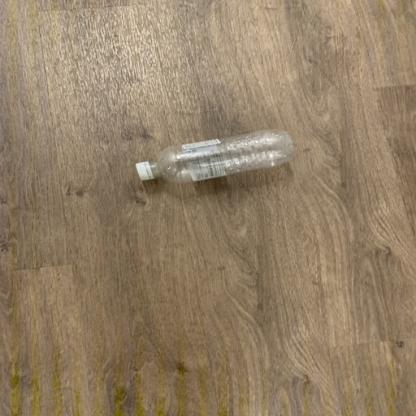trash: (132, 128, 298, 184)
